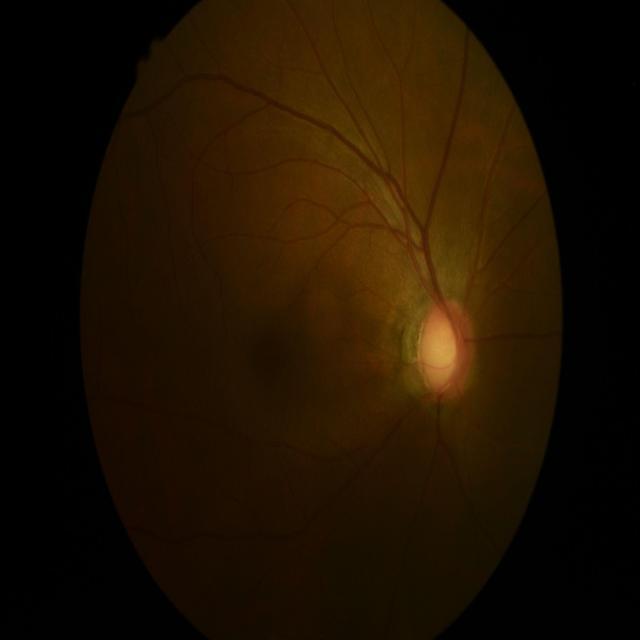cup: (423, 308, 461, 392)
disk: (419, 296, 476, 398)
